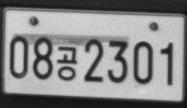0: (132, 40, 154, 85), (8, 35, 29, 79)
1: (157, 41, 179, 86)
2: (83, 37, 103, 82)
3: (106, 40, 129, 83)
8: (31, 36, 54, 80)
공: (56, 45, 78, 81)
